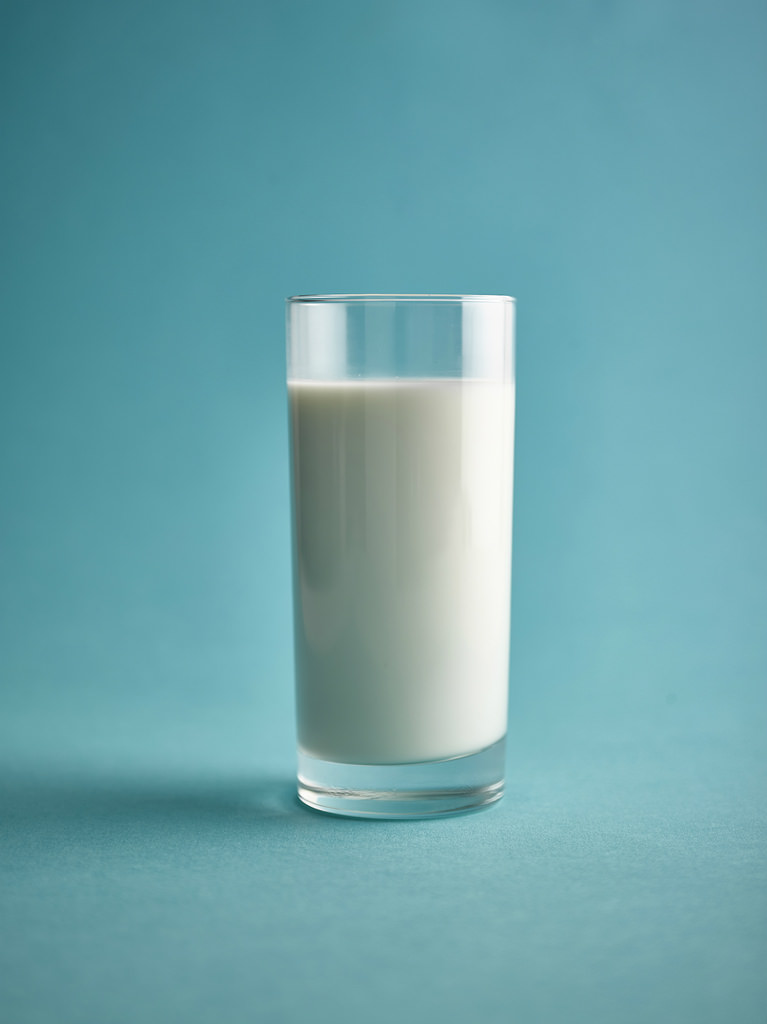glass of milk: (292, 302, 504, 796)
